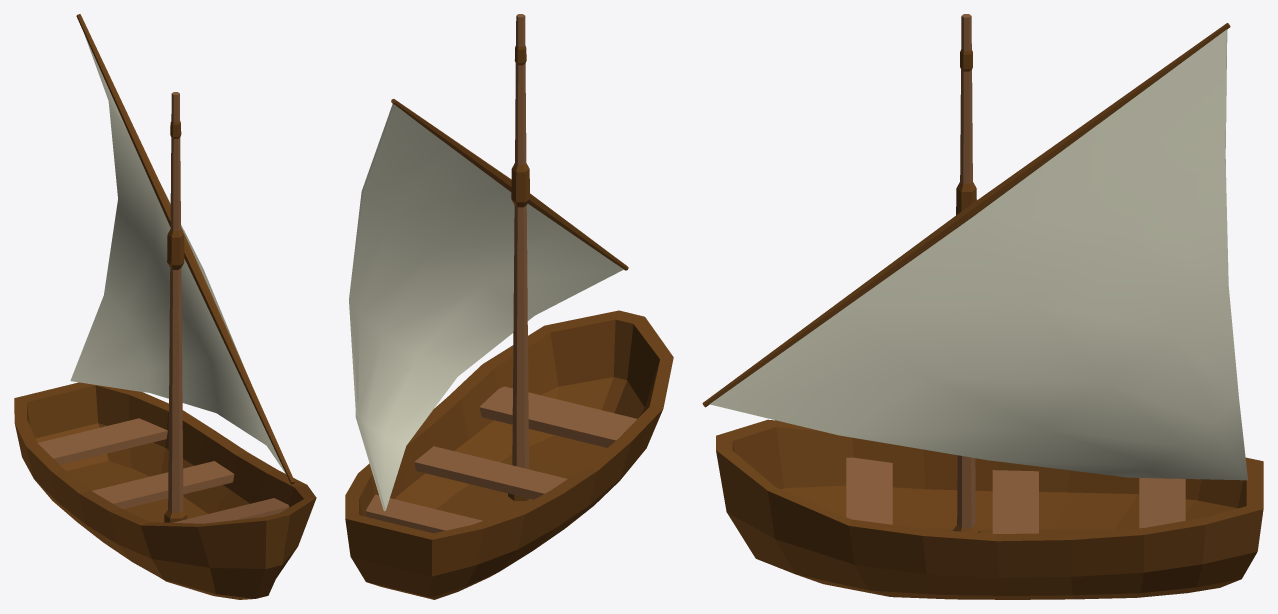
The model's file is Dhow.fbx.
The picture shows the model from 3 angles, left to right: view 1: azimuth 30°, elevation 25°; view 2: azimuth 150°, elevation 25°; view 3: azimuth 270°, elevation 25°; orthographic projection. The views are drawn at different scales.
Visible parts, largest first — view 1: Dhow; view 2: Dhow; view 3: Dhow.
Boxes of the visible parts, left/top/right/bottom form: Dhow: left=14, top=14, right=316, bottom=599; Dhow: left=345, top=14, right=673, bottom=599; Dhow: left=702, top=14, right=1263, bottom=599.
Bounding box in the file's own units: 102 × 264 × 241.
